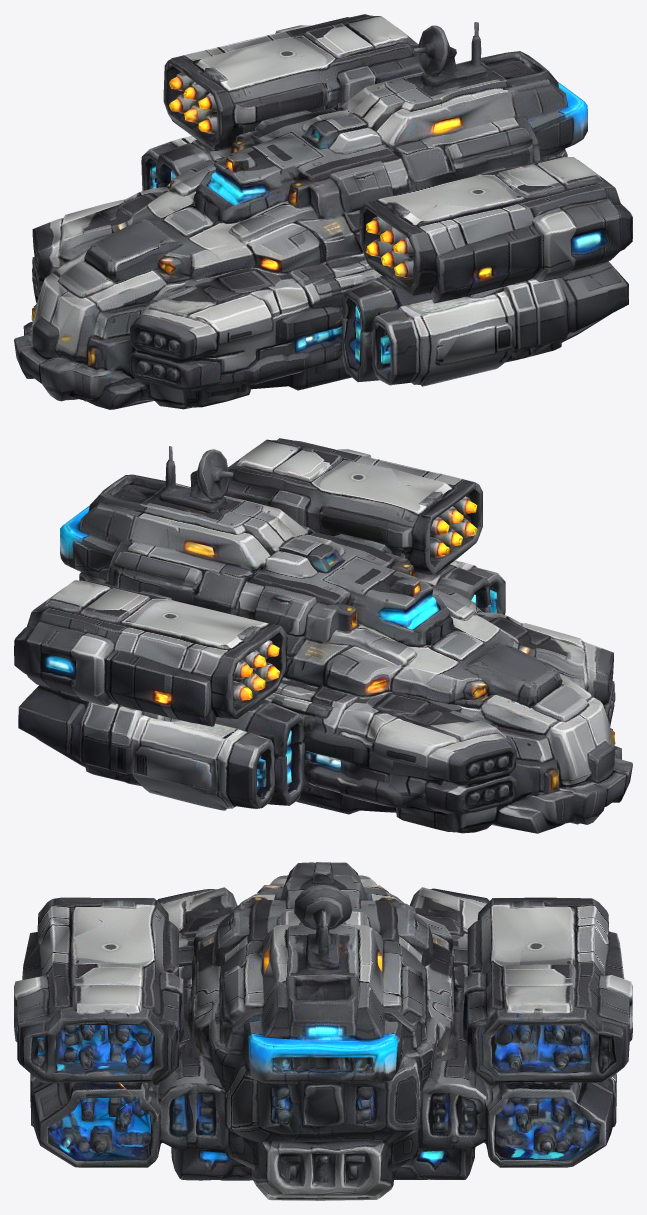
Rendered from dread.glb.
The picture shows the model from 3 angles, top to bottom: view 1: azimuth 30°, elevation 25°; view 2: azimuth 150°, elevation 25°; view 3: azimuth 270°, elevation 25°; orthographic projection. The views are drawn at different scales.
Parts seen in each view (by area): view 1: mesh_node; view 2: mesh_node; view 3: mesh_node.
Part boxes in pixels (box(x1,y1,x2,y2)): mesh_node: box(14, 14, 632, 409); mesh_node: box(14, 438, 632, 833); mesh_node: box(14, 862, 632, 1200).
Bounding box in the file's own units: 1.9 × 0.9477 × 1.7.
Materials: 1 (1 with a texture image).
